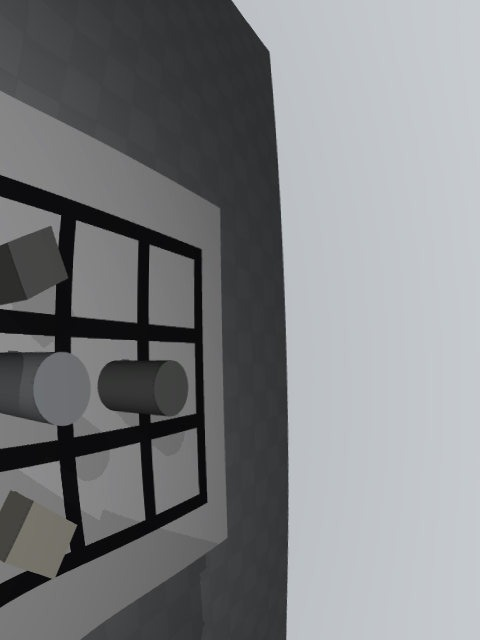can: (0, 352, 91, 426)
cube: (0, 226, 69, 305)
cylinder: (97, 360, 188, 416)
foam: (0, 490, 77, 580)
